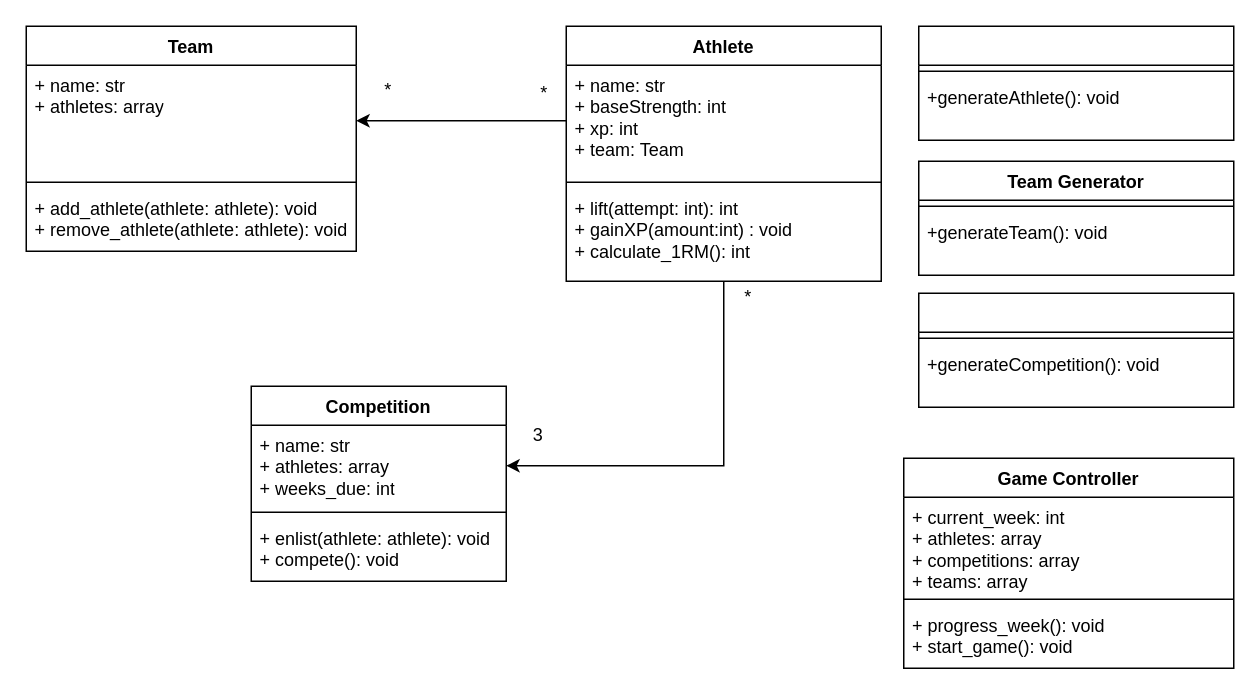
Image size: 1260x699. Some labels were removed from this diagram. Here are the shapes that lost their labels. From the top down, the box of each, then its label:
(917, 25, 1234, 140): Athlete Generator
(917, 292, 1234, 407): Competition Generator
